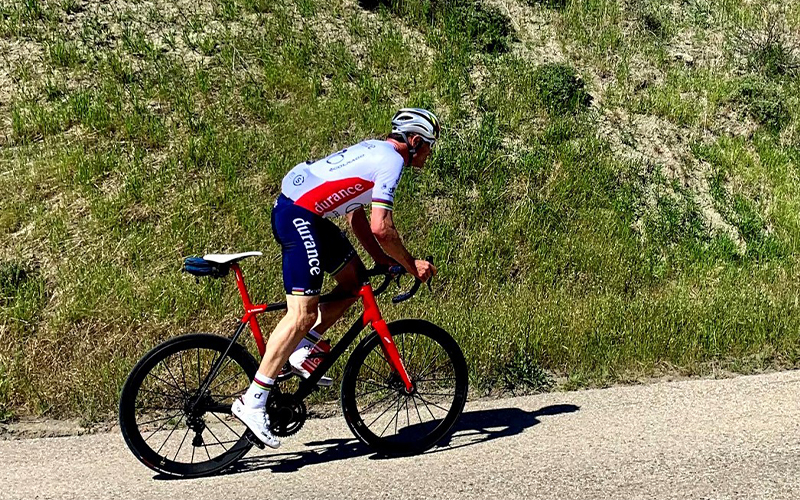helmet: (389, 107, 440, 170)
